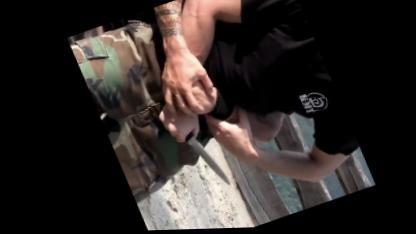knife: (152, 97, 233, 202)
